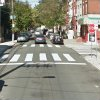crosswalk: (9, 53, 75, 62), (21, 43, 60, 47)
